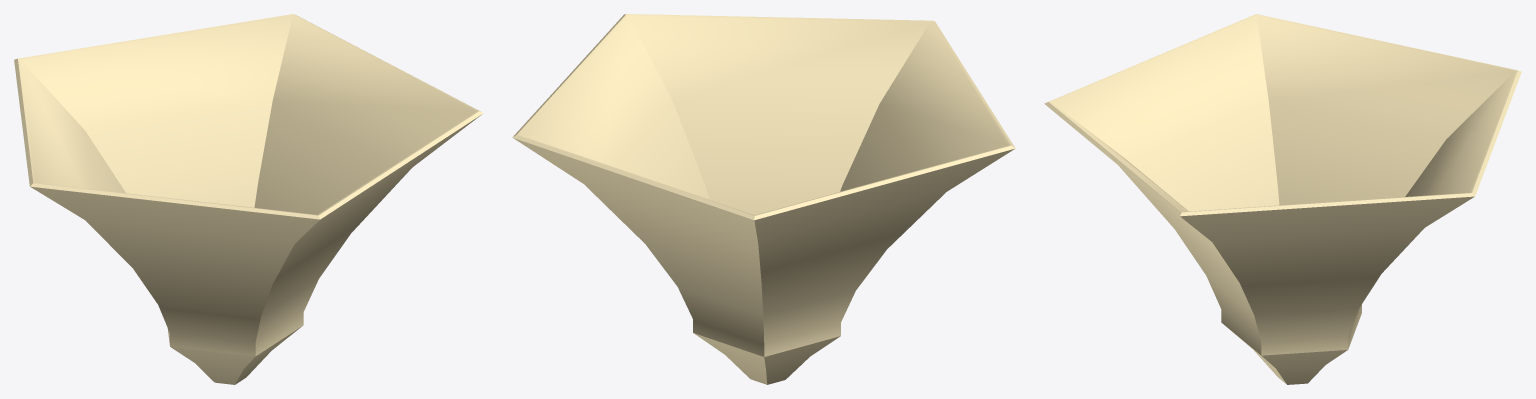
The model's file is Prop_Lampe_Glas.fbx.
The picture shows the model from 3 angles, left to right: view 1: azimuth 30°, elevation 25°; view 2: azimuth 150°, elevation 25°; view 3: azimuth 270°, elevation 25°; orthographic projection. The views are drawn at different scales.
Visible parts, largest first — view 1: Circle_NoneLampe__001; view 2: Circle_NoneLampe__001; view 3: Circle_NoneLampe__001.
Boxes of the visible parts, x1=… form: Circle_NoneLampe__001: x1=14, y1=14, x2=483, y2=384; Circle_NoneLampe__001: x1=512, y1=14, x2=1015, y2=384; Circle_NoneLampe__001: x1=1044, y1=14, x2=1521, y2=384.
Size of the model in its own units: 0.911 by 0.5472 by 0.9113.
